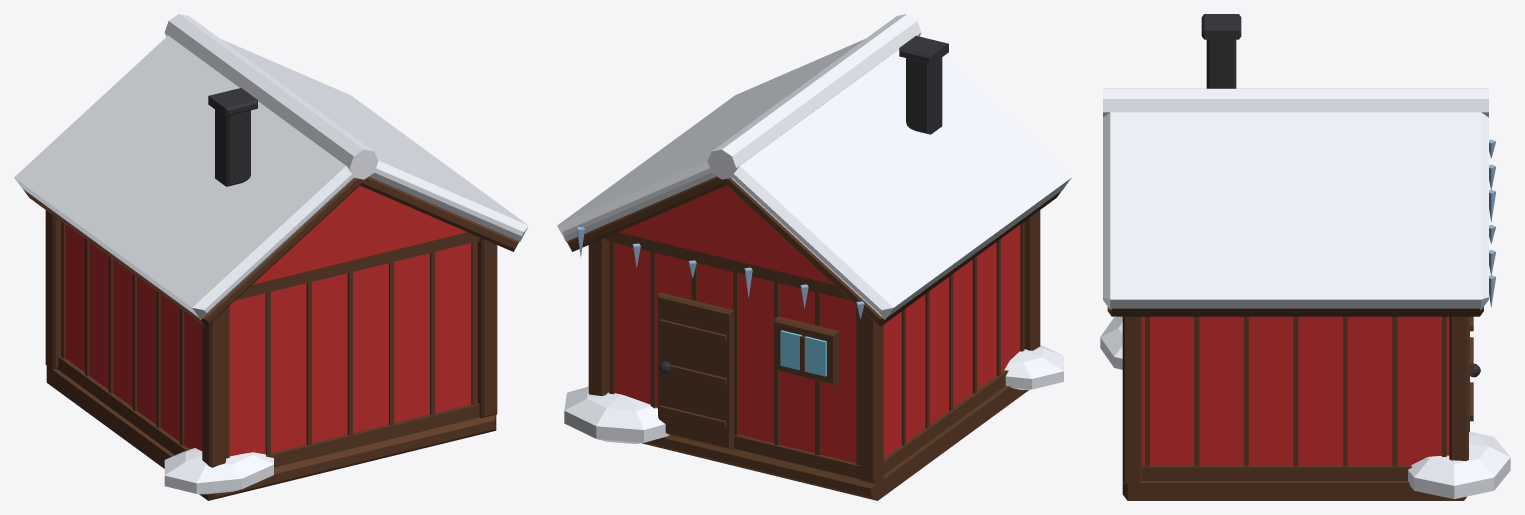
Rendered from FROZEN_ICE_HUT.glb.
The picture shows the model from 3 angles, left to right: view 1: azimuth 30°, elevation 25°; view 2: azimuth 150°, elevation 25°; view 3: azimuth 270°, elevation 25°; orthographic projection. The views are drawn at different scales.
Parts seen in each view (by area): view 1: Snow, PropRed, WoodDark, PropCharcoal; view 2: Snow, WoodDark, PropRed, PropCharcoal, Window, Icicle; view 3: Snow, PropRed, WoodDark, PropCharcoal, Icicle.
Boxes of the visible parts, x1=… form: Snow: x1=14, y1=14, x2=528, y2=494; PropRed: x1=65, y1=185, x2=477, y2=456; WoodDark: x1=23, y1=176, x2=518, y2=500; PropCharcoal: x1=208, y1=88, x2=257, y2=186; Snow: x1=557, y1=14, x2=1071, y2=443; WoodDark: x1=567, y1=176, x2=1061, y2=500; PropRed: x1=608, y1=185, x2=1020, y2=462; PropCharcoal: x1=659, y1=35, x2=948, y2=374; Window: x1=780, y1=330, x2=826, y2=376; Icicle: x1=576, y1=227, x2=864, y2=319; Snow: x1=1100, y1=88, x2=1510, y2=499; PropRed: x1=1142, y1=316, x2=1449, y2=465; WoodDark: x1=1107, y1=307, x2=1483, y2=500; PropCharcoal: x1=1201, y1=14, x2=1480, y2=377; Icicle: x1=1489, y1=139, x2=1496, y2=307.
Size of the model in its own units: 7.26 by 7 by 7.08.
